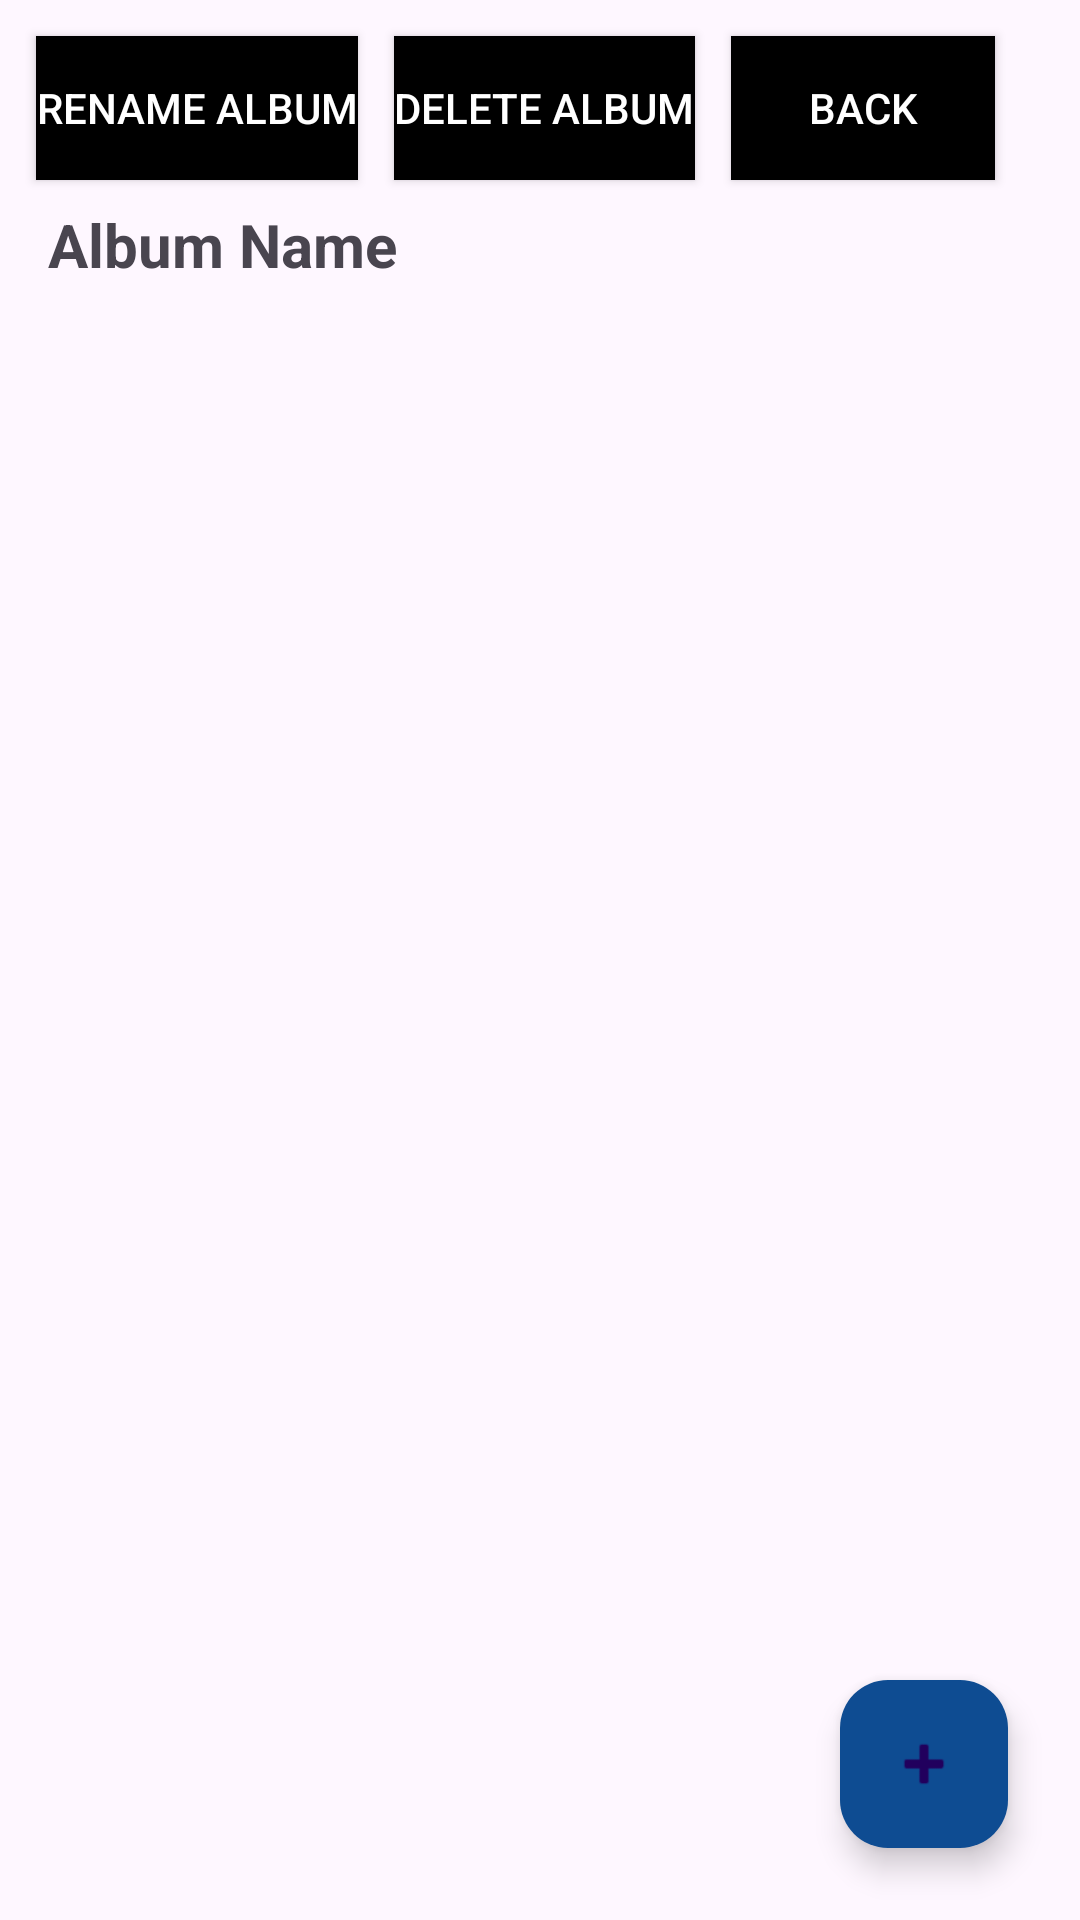

Screen size 1080*1920. Icon name, then its center in pixels as [x,y]:
Add photo to album: [924,1764]
